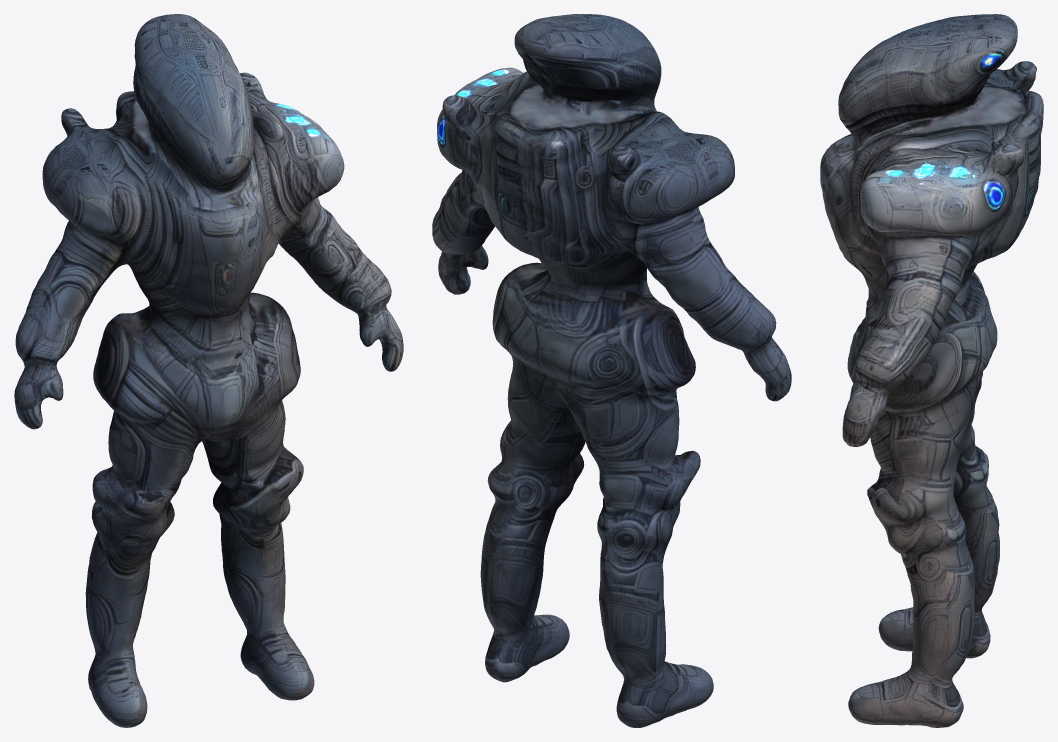
Rendered from ENEM1.glb.
3 views of the same model, side by side, from view 1: azimuth 30°, elevation 25°; view 2: azimuth 150°, elevation 25°; view 3: azimuth 270°, elevation 25° (orthographic). The views are drawn at different scales.
Parts seen in each view (by area): view 1: Object_4; view 2: Object_4; view 3: Object_4.
Boxes of the visible parts, left/top/right/bottom form: Object_4: left=14, top=14, right=403, bottom=727; Object_4: left=432, top=14, right=791, bottom=727; Object_4: left=820, top=14, right=1043, bottom=727.
Bounding box in the file's own units: 0.685 × 1.2 × 0.3628.
1 material, 1 textured.
